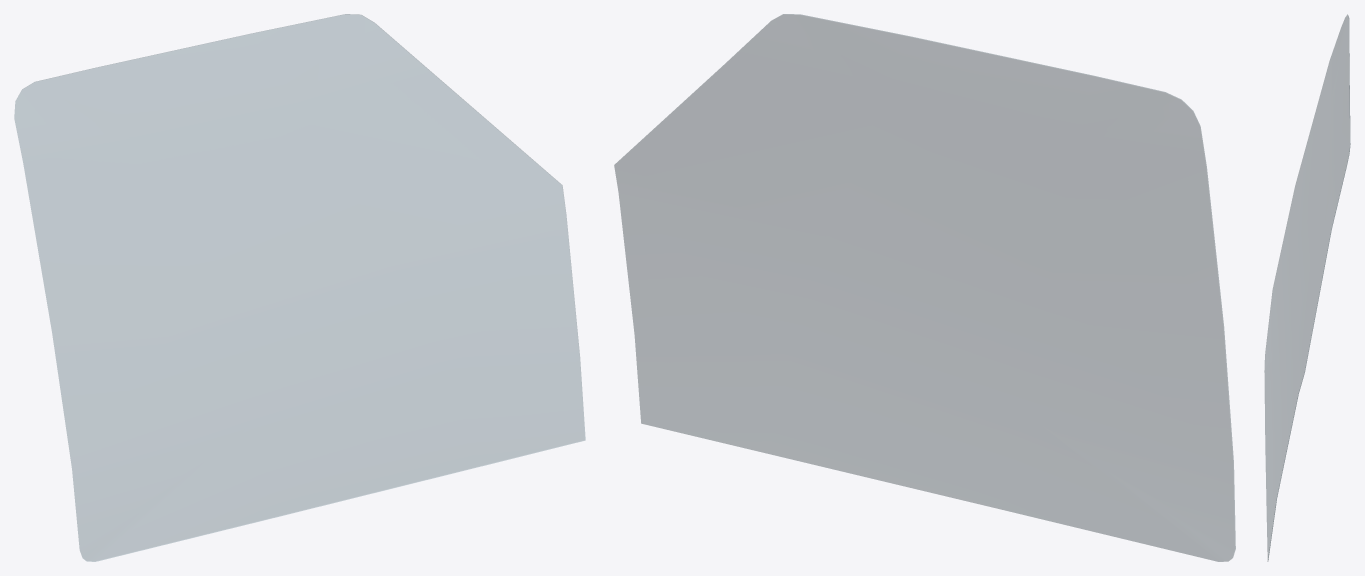
3 renders of one model, left to right at view 1: azimuth 30°, elevation 25°; view 2: azimuth 150°, elevation 25°; view 3: azimuth 270°, elevation 25°, orthographic. The views are drawn at different scales.
Parts seen in each view (by area): view 1: SM_Ambulance_Door_FR_Glass_Int2; view 2: SM_Ambulance_Door_FR_Glass_Int2; view 3: SM_Ambulance_Door_FR_Glass_Int2.
Part boxes in pixels (x1,y1,x2,y2): SM_Ambulance_Door_FR_Glass_Int2: (14,14,585,561); SM_Ambulance_Door_FR_Glass_Int2: (614,14,1235,561); SM_Ambulance_Door_FR_Glass_Int2: (1264,14,1350,561).
Size of the model in its own units: 0.6687 by 0.5391 by 0.1194.
